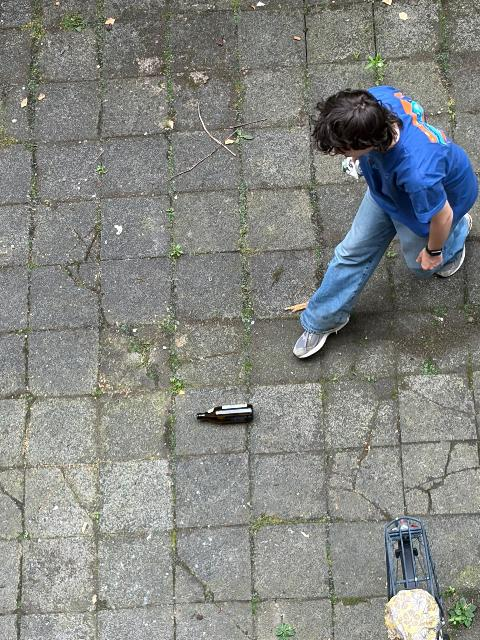glass_bottle: (196, 404, 252, 423)
